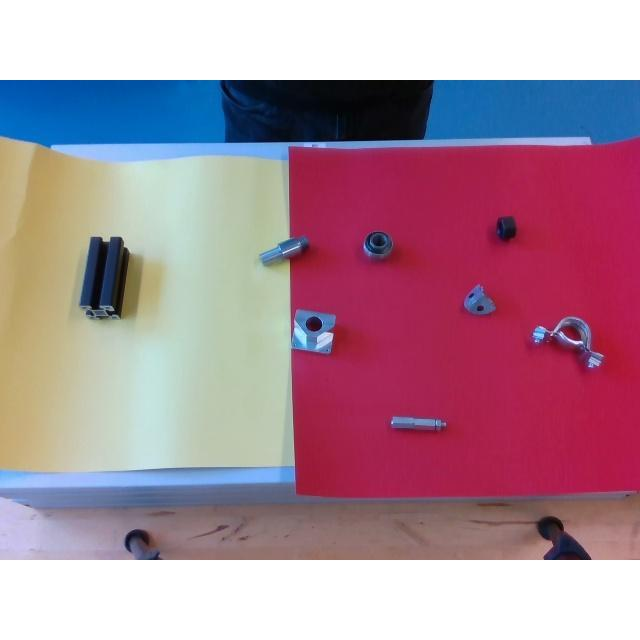Axis2: (260, 236, 308, 268)
Bearing2: (363, 230, 392, 254)
Housing: (531, 315, 603, 365)
M20: (497, 215, 518, 241)
S40_40_B: (79, 236, 127, 316)
